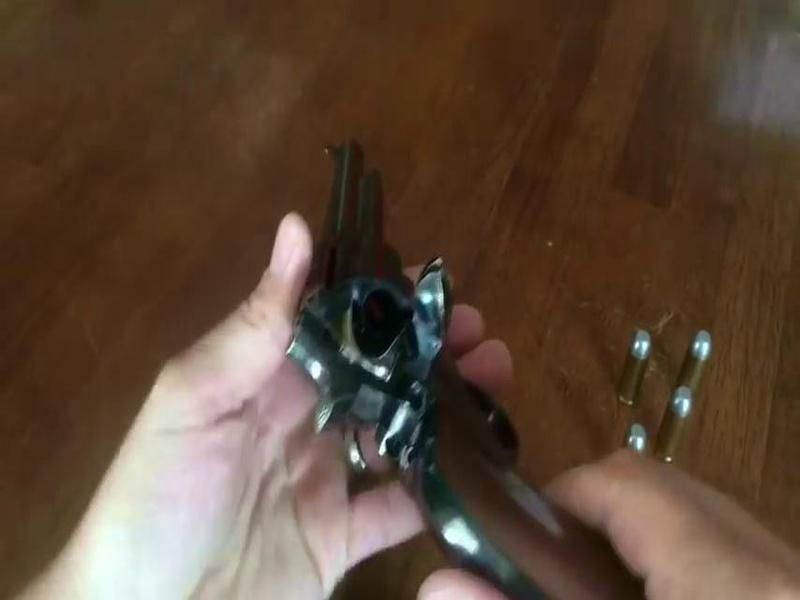Revolver: (277, 114, 554, 561)
